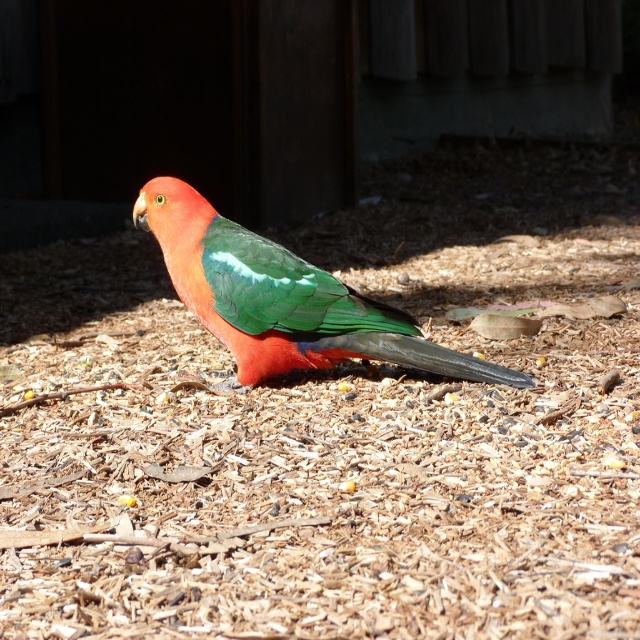Parrot: (132, 176, 536, 396)
